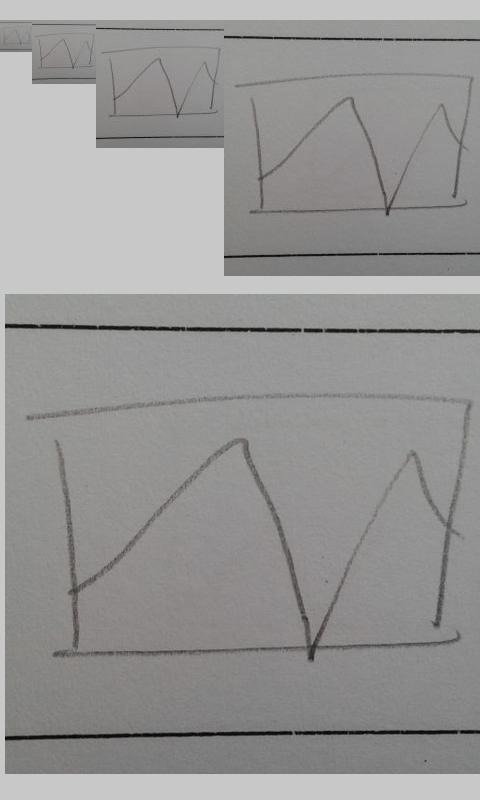image_view: (45, 391, 472, 661), (247, 73, 475, 216), (108, 45, 221, 118), (38, 32, 95, 69), (2, 26, 31, 45)
